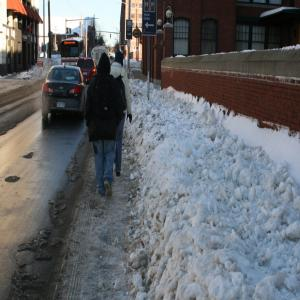Vehicle-registration-plate: (58, 102, 66, 108), (83, 72, 88, 76)
